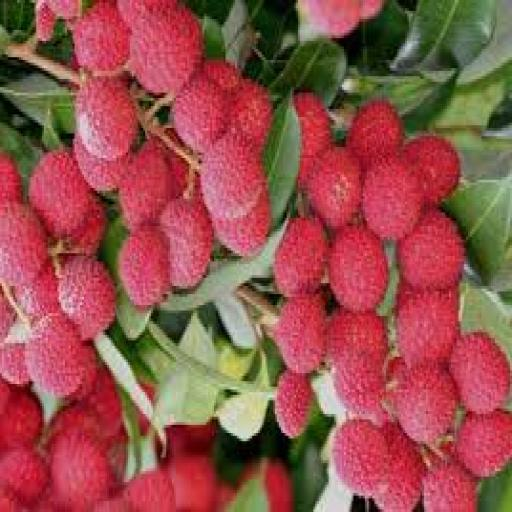lychee: (129, 6, 201, 95), (200, 134, 264, 220), (28, 150, 90, 236), (397, 210, 463, 288), (24, 314, 86, 397), (361, 156, 421, 239), (328, 227, 388, 310), (448, 333, 509, 413), (76, 79, 136, 160), (395, 365, 457, 443), (49, 431, 111, 509), (395, 289, 457, 367), (118, 139, 170, 231), (57, 256, 113, 340), (160, 199, 212, 288), (171, 74, 230, 152), (332, 420, 388, 498), (307, 148, 360, 228), (273, 218, 327, 296), (118, 227, 170, 307), (376, 423, 423, 511), (72, 0, 128, 73), (273, 295, 325, 373), (334, 346, 386, 424), (403, 134, 459, 204), (347, 99, 402, 168), (212, 191, 270, 255), (0, 205, 46, 285), (454, 412, 511, 476), (72, 134, 128, 193), (294, 93, 329, 187), (326, 311, 388, 364), (229, 79, 272, 149), (0, 447, 46, 506), (168, 455, 216, 511), (240, 461, 293, 511), (422, 463, 476, 511), (84, 368, 121, 438), (15, 262, 58, 321), (275, 371, 312, 438), (0, 390, 42, 449), (122, 469, 174, 511), (303, 0, 360, 38), (68, 197, 105, 255), (116, 0, 174, 27), (200, 60, 241, 95), (0, 341, 29, 386), (0, 153, 20, 206), (34, 0, 54, 43), (0, 295, 14, 340), (47, 0, 77, 19), (359, 0, 383, 21)
